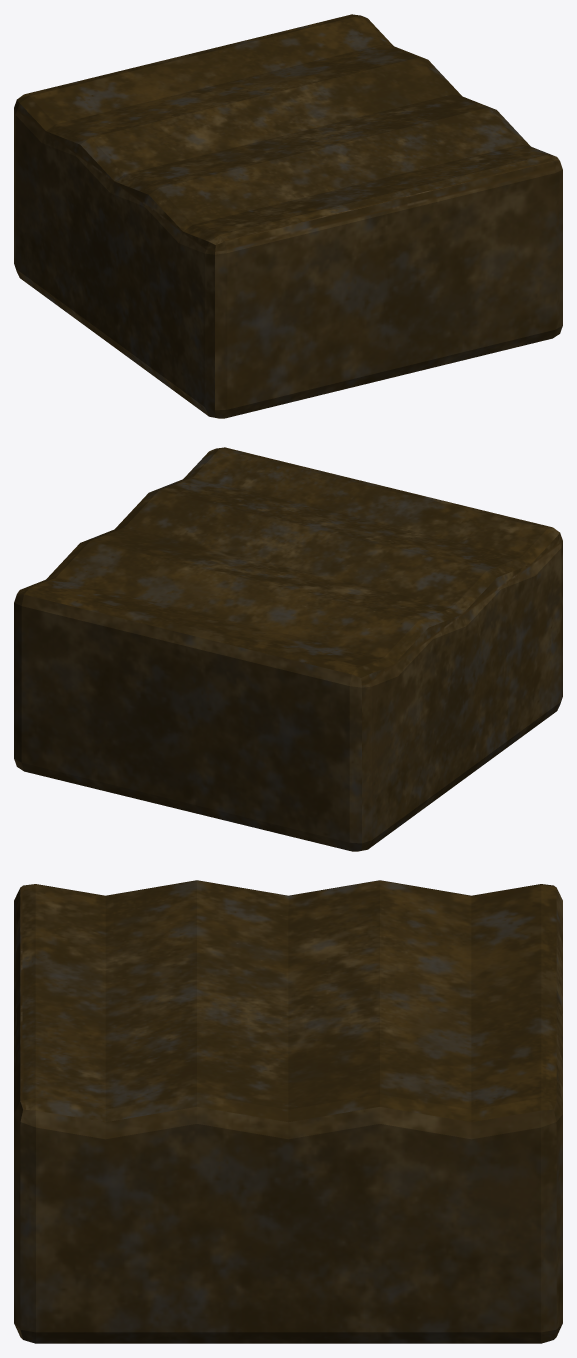
Rendered from watered_block.glb.
3 renders of one model, top to bottom at view 1: azimuth 30°, elevation 25°; view 2: azimuth 150°, elevation 25°; view 3: azimuth 270°, elevation 25°, orthographic. The views are drawn at different scales.
Parts seen in each view (by area): view 1: Watered_block; view 2: Watered_block; view 3: Watered_block.
Part boxes in pixels (x1,y1,x2,y2): Watered_block: (14, 14, 562, 418); Watered_block: (14, 447, 562, 851); Watered_block: (14, 880, 562, 1343).
Bounding box in the file's own units: 1 × 0.5 × 1.
Materials: 1 (1 with a texture image).
